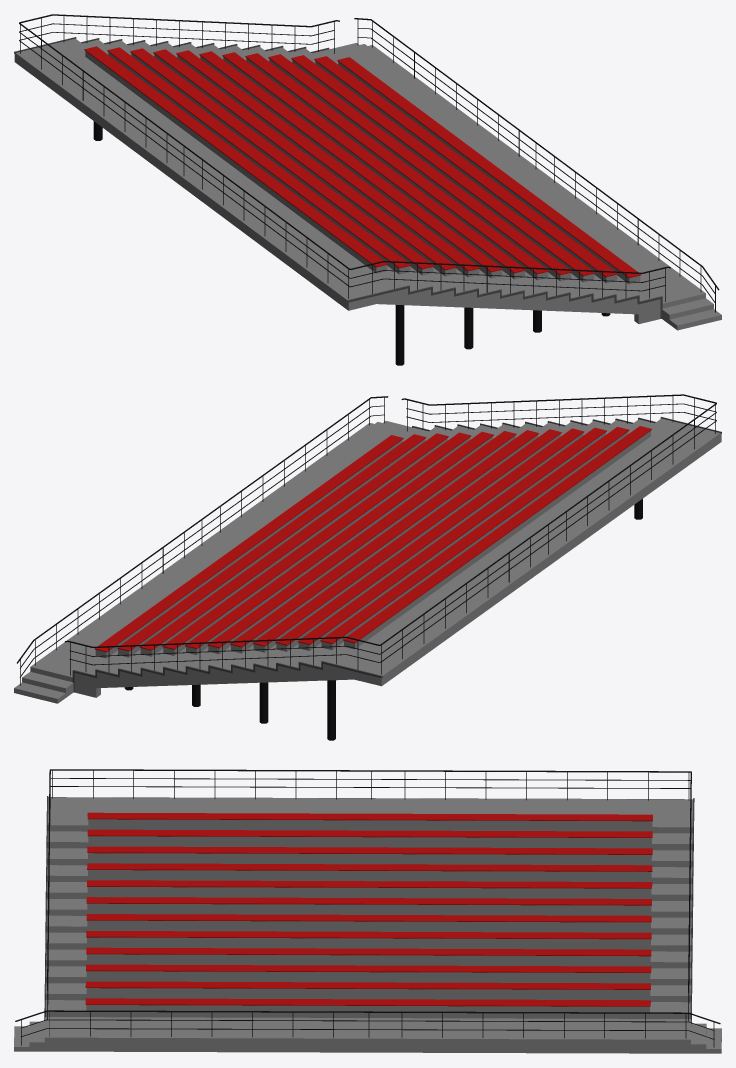
File: Tribune_small.FBX
The picture shows the model from 3 angles, top to bottom: view 1: azimuth 30°, elevation 25°; view 2: azimuth 150°, elevation 25°; view 3: azimuth 270°, elevation 25°; orthographic projection. The views are drawn at different scales.
Parts seen in each view (by area): view 1: Box091, Скамейки010, Object013, Line233, Line241, Карниз010, Cylinder007, Line243, Line244, Line240, Line242; view 2: Box091, Скамейки010, Object013, Line233, Line241, Карниз010, Cylinder007, Line243, Line244, Line242, Line240; view 3: Box091, Скамейки010, Line241, Line243, Line233, Line244, Карниз010, Line242, Line240.
Part boxes in pixels (x1=…): Box091: x1=15, y1=38, x2=721, y2=330; Скамейки010: x1=84, y1=46, x2=641, y2=278; Object013: x1=14, y1=53, x2=660, y2=323; Line233: x1=19, y1=23, x2=665, y2=291; Line241: x1=19, y1=14, x2=670, y2=273; Карниз010: x1=14, y1=37, x2=662, y2=318; Cylinder007: x1=93, y1=121, x2=610, y2=365; Line243: x1=357, y1=28, x2=715, y2=303; Line244: x1=354, y1=18, x2=719, y2=290; Line240: x1=20, y1=25, x2=348, y2=298; Line242: x1=357, y1=20, x2=715, y2=312; Box091: x1=14, y1=418, x2=720, y2=703; Скамейки010: x1=94, y1=426, x2=651, y2=652; Object013: x1=74, y1=433, x2=721, y2=697; Line233: x1=69, y1=403, x2=716, y2=665; Line241: x1=65, y1=394, x2=716, y2=647; Карниз010: x1=72, y1=417, x2=721, y2=692; Cylinder007: x1=124, y1=498, x2=642, y2=740; Line243: x1=19, y1=405, x2=384, y2=677; Line244: x1=17, y1=396, x2=388, y2=663; Line242: x1=20, y1=397, x2=384, y2=685; Line240: x1=381, y1=405, x2=715, y2=674; Box091: x1=14, y1=797, x2=721, y2=1053; Скамейки010: x1=85, y1=812, x2=652, y2=1006; Line241: x1=47, y1=769, x2=691, y2=992; Line243: x1=21, y1=1019, x2=714, y2=1039; Line233: x1=47, y1=778, x2=690, y2=1006; Line244: x1=15, y1=1010, x2=720, y2=1024; Карниз010: x1=44, y1=796, x2=694, y2=1023; Line242: x1=21, y1=1012, x2=714, y2=1047; Line240: x1=52, y1=770, x2=689, y2=800.
Bounding box in the file's own units: 1228 × 400 × 2181.
